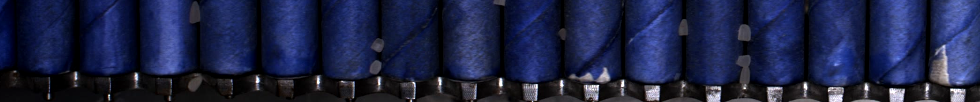broken_grain: (735, 21, 753, 47), (187, 1, 204, 27), (735, 66, 755, 87), (675, 16, 692, 40), (365, 59, 386, 77), (734, 51, 755, 66), (369, 36, 387, 53)
